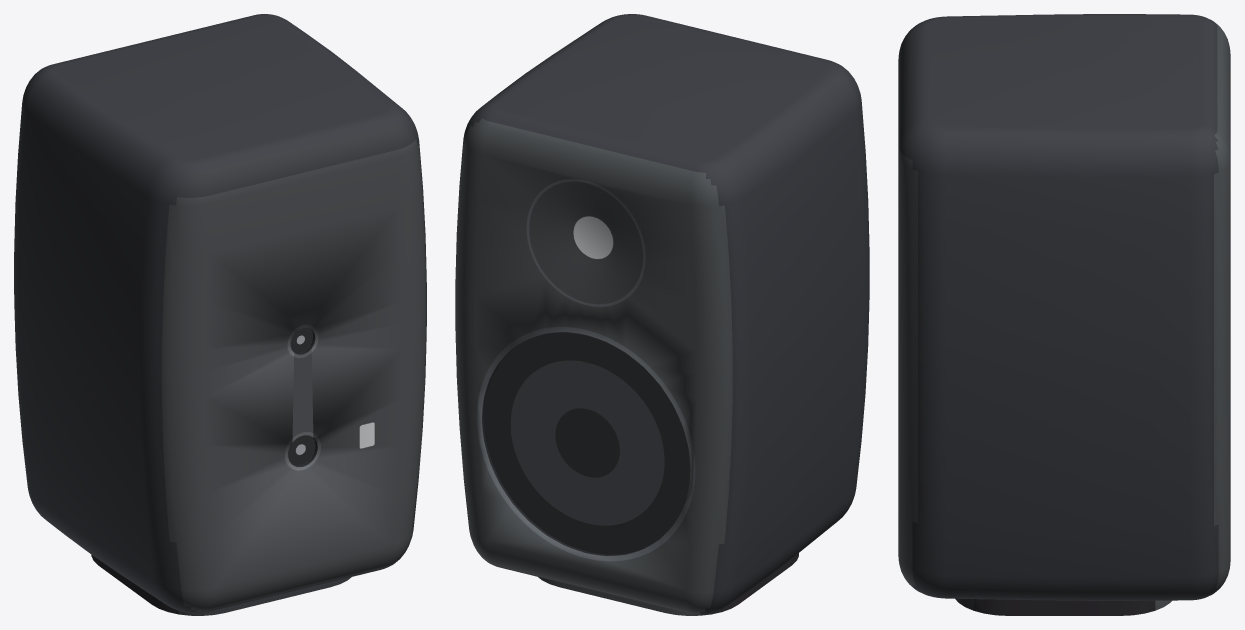
File: genelec-8040b.glb
The picture shows the model from 3 angles, left to right: view 1: azimuth 30°, elevation 25°; view 2: azimuth 150°, elevation 25°; view 3: azimuth 270°, elevation 25°; orthographic projection. The views are drawn at different scales.
Visible parts, largest first — view 1: genelec-8040b-body; view 2: genelec-8040b-body; view 3: genelec-8040b-body.
Part boxes in pixels (bbox=[...]): genelec-8040b-body: bbox=[14, 14, 426, 615]; genelec-8040b-body: bbox=[455, 14, 869, 615]; genelec-8040b-body: bbox=[898, 14, 1230, 615].
Size of the model in its own units: 0.237 by 0.365 by 0.223.
Materials: 1 (1 with a texture image).
